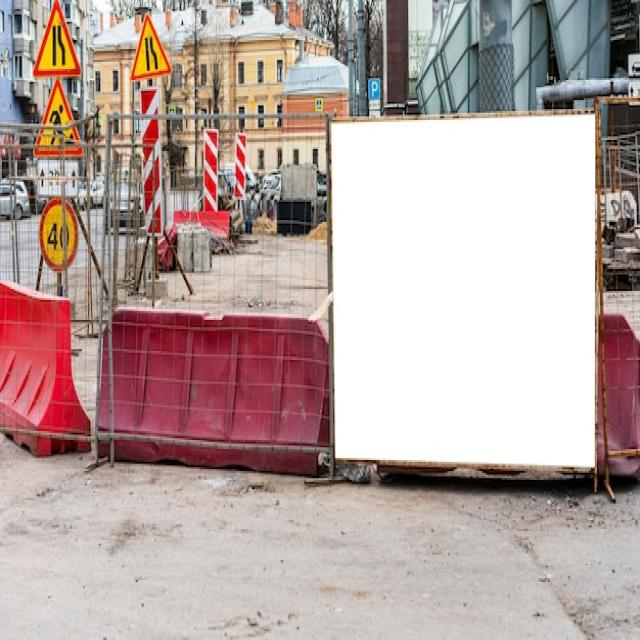cone: (94, 304, 330, 474)
